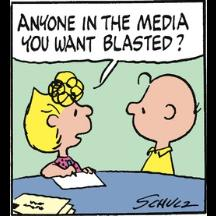charlie: (125, 72, 201, 176)
